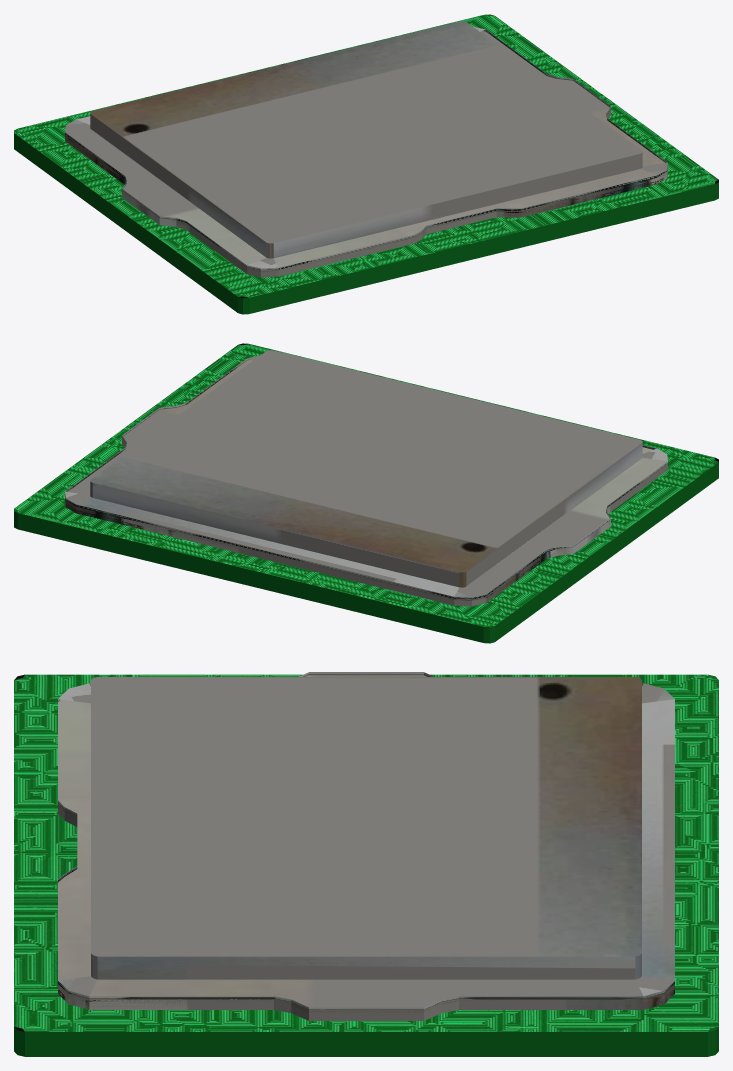
The model's file is cpu-intel-lga.glb.
3 views of the same model, one above another, from view 1: azimuth 30°, elevation 25°; view 2: azimuth 150°, elevation 25°; view 3: azimuth 270°, elevation 25° (orthographic). The views are drawn at different scales.
Parts seen in each view (by area): view 1: body; view 2: body; view 3: body.
Boxes of the visible parts, x1,y1,x2,y2 form: body: [14, 14, 718, 314]; body: [14, 343, 718, 643]; body: [14, 672, 718, 1056].
Bounding box in the file's own units: 0.045 × 0.0045 × 0.0375.
8 materials, 2 textured.
